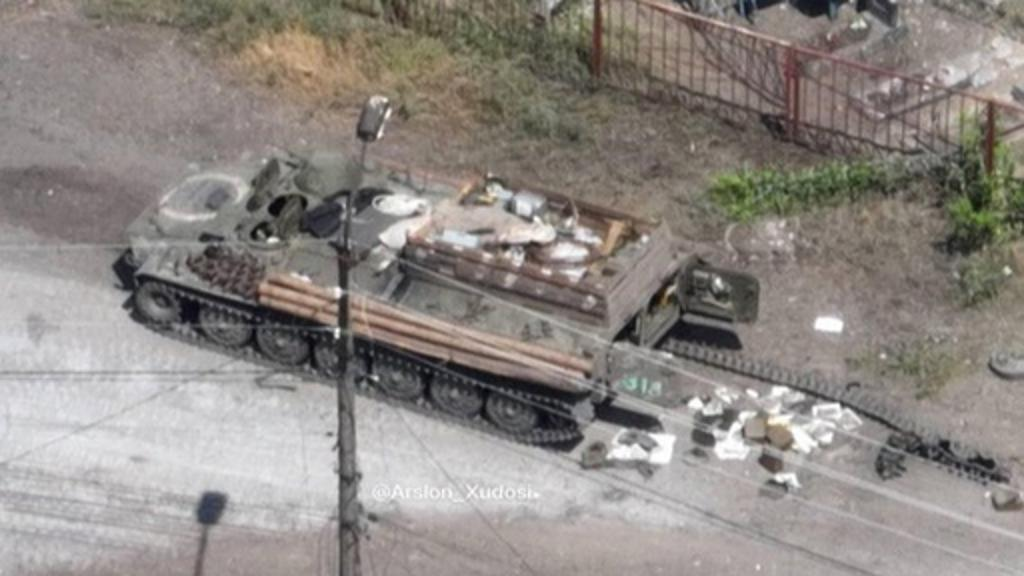APC-IFV: (132, 134, 752, 458)
